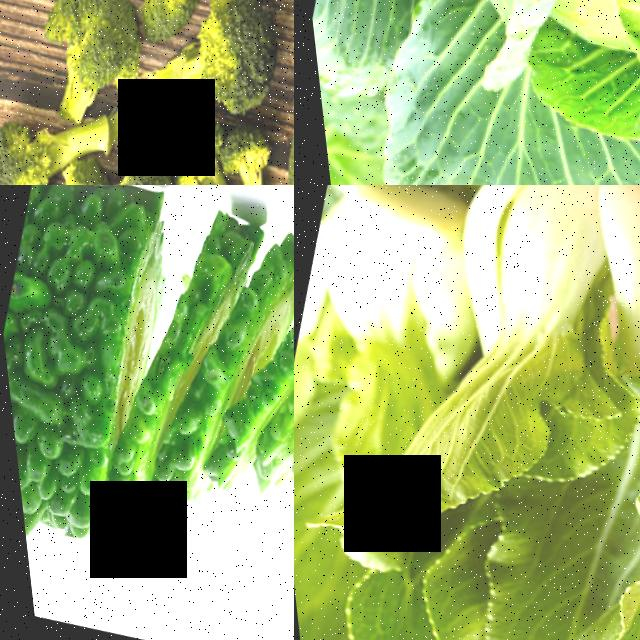bitter gourd: (0, 185, 197, 572), (139, 185, 294, 527)
bok choy: (337, 185, 640, 637), (294, 185, 468, 570)
broccoli: (140, 0, 294, 147), (5, 0, 160, 140), (224, 0, 294, 185), (0, 88, 102, 185), (127, 0, 203, 38)
cabbage: (294, 0, 640, 185)
